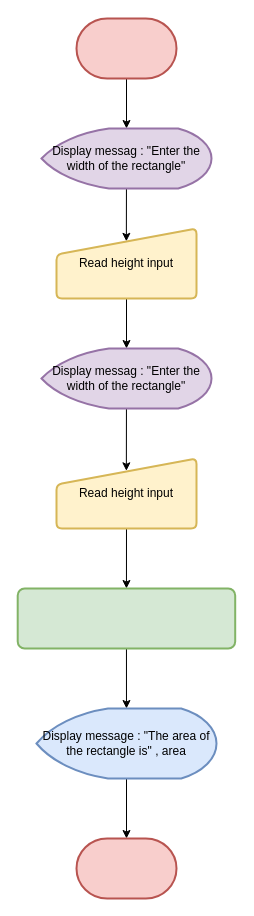
The diagram is 254 pixels wide and 916 high, and some of its shapes have lost their labels. The shapes that lost their labels are listed below. From the top down, each one's box as (x1, y1, x2, y2) in pixels, then its label:
(75, 17, 177, 79): start
(16, 587, 236, 649): Calculate area : area = width * height
(75, 837, 177, 899): stop
